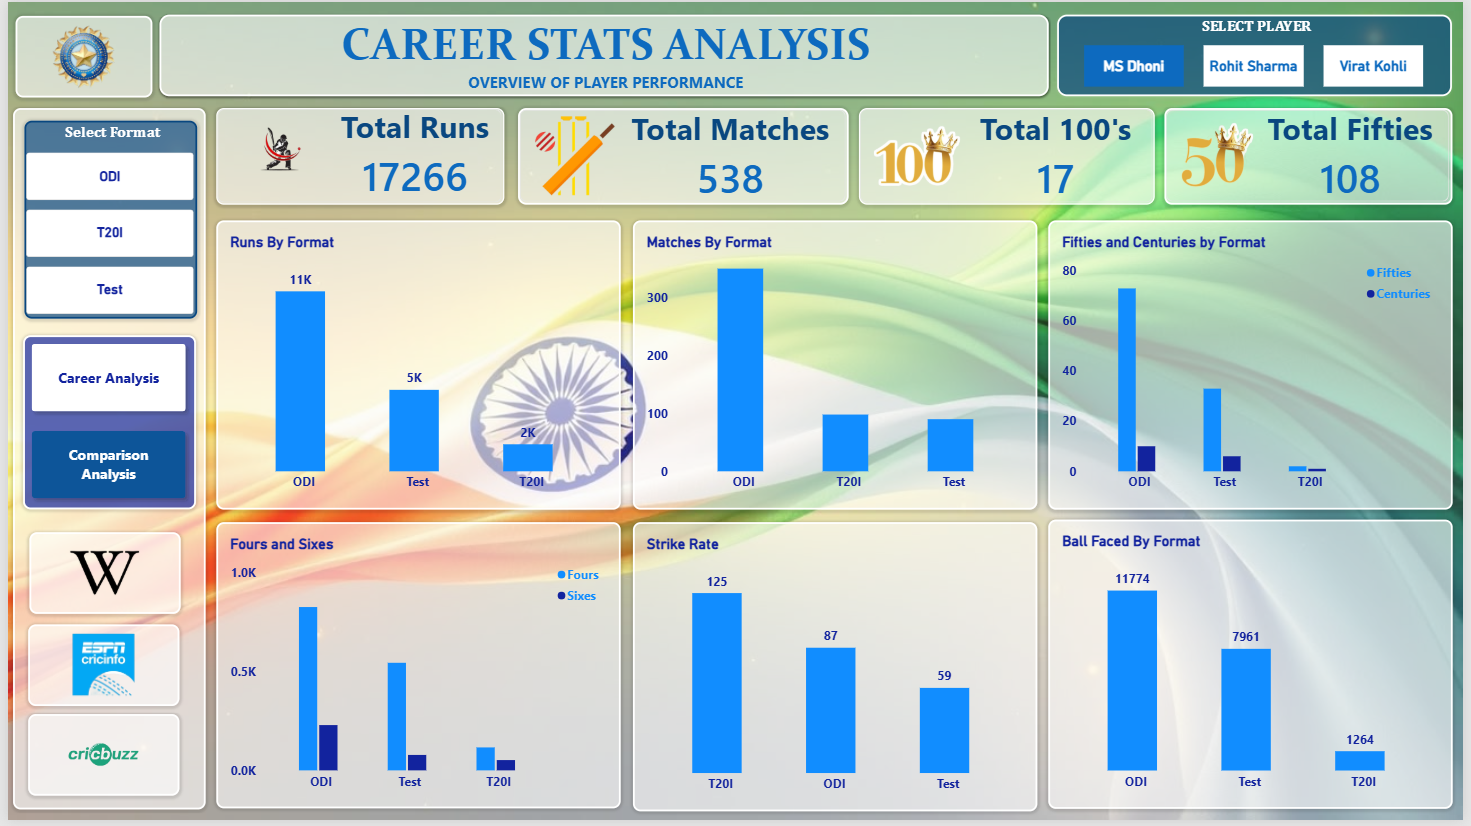

The dashboard page shown, as its layout file describes it:
{"tool":"powerbi","page":{"name":"Comparison Analysis","canvas":[1920,1080],"ordinal":1},"visuals":[{"type":"shape","box":[7.1,139.6,254.5,926],"z":0},{"type":"lineStackedColumnComboChart","title":"Matches By  Format","fields":{"Category":["Career_Summary.Format"],"Y":["Sum(Career_Summary.Matches)"]},"box":[825.3,288.1,533.7,381.7],"z":1000},{"type":"columnChart","title":"Runs By Format","fields":{"Category":["Career_Summary.Format"],"Y":["Sum(Career_Summary.Runs)"]},"box":[275.7,288.1,533.7,381.7],"z":2000},{"type":"columnChart","title":"Strike Rate","fields":{"Category":["Career_Summary.Format"],"Y":["Sum(Career_Summary.Strike_Rate)"]},"box":[825.3,687.5,533.7,381.7],"z":3000},{"type":"clusteredColumnChart","title":"Fours and Sixes","fields":{"Category":["Career_Summary.Format"],"Y":["Sum(Career_Summary.Fours)","Sum(Career_Summary.Sixes)"]},"box":[275.7,687.5,533.7,378.2],"z":4000},{"type":"lineClusteredColumnComboChart","title":"Fifties and Centuries by Format","fields":{"Category":["Career_Summary.Format"],"Y":["Sum(Career_Summary.Fifties)","Sum(Career_Summary.Centuries)"]},"box":[1373.2,288.1,533.7,381.7],"z":5000},{"type":"cardVisual","fields":{"Data":["Career_Summary.Total Runs"]},"box":[275.7,139.6,380,127.2],"z":6000},{"type":"cardVisual","fields":{"Data":["Career_Summary.Total Matches"]},"box":[673.3,139.6,436.5,127.2],"z":7000},{"type":"cardVisual","fields":{"Data":["Career_Summary.Total 100's"]},"box":[1124,139.6,390.6,127.2],"z":8000},{"type":"cardVisual","fields":{"Data":["Career_Summary.Total Fifties"]},"box":[1526.9,139.6,380,127.2],"z":9000},{"type":"textbox","title":"CAREER STATS ANALYSIS ","box":[199.7,15.9,1173.5,107.8],"z":10000},{"type":"advancedSlicerVisual","title":"SELECT PLAYER","fields":{"Values":["Career_Summary.Player_Name"]},"box":[1385.5,15.9,521.3,107.8],"z":11000},{"type":"advancedSlicerVisual","title":"Select Format","fields":{"Values":["Career_Summary.Format"]},"box":[21.2,157.3,228,261.6],"z":12000},{"type":"image","box":[10.6,17.7,180.3,107.8],"z":13000},{"type":"lineStackedColumnComboChart","title":"Ball Faced By Format","fields":{"Category":["Career_Summary.Format"],"Y":["Sum(Career_Summary.Balls)"]},"box":[1373.2,683.9,533.7,381.7],"z":14000},{"type":"image","box":[26.5,821.8,199.7,107.8],"z":15000},{"type":"image","box":[26.5,940.2,199.7,107.8],"z":16000},{"type":"image","box":[28.3,699.8,199.7,107.8],"z":17000},{"type":"pageNavigator","box":[19.4,440.1,228,229.7],"z":18000}]}

Visuals, with their boxes in screenshot pixels (x1, y1, x2, y2), scaled from the page's 1920x1080 canvas onto the 1471x826 screenshot:
shape: l=5, t=107, r=200, b=815
"Matches By  Format" lineStackedColumnComboChart: l=632, t=220, r=1041, b=512
"Runs By Format" columnChart: l=211, t=220, r=620, b=512
"Strike Rate" columnChart: l=632, t=526, r=1041, b=818
"Fours and Sixes" clusteredColumnChart: l=211, t=526, r=620, b=815
"Fifties and Centuries by Format" lineClusteredColumnComboChart: l=1052, t=220, r=1461, b=512
cardVisual - Career_Summary.Total Runs: l=211, t=107, r=502, b=204
cardVisual - Career_Summary.Total Matches: l=516, t=107, r=850, b=204
cardVisual - Career_Summary.Total 100's: l=861, t=107, r=1160, b=204
cardVisual - Career_Summary.Total Fifties: l=1170, t=107, r=1461, b=204
"CAREER STATS ANALYSIS " textbox: l=153, t=12, r=1052, b=95
"SELECT PLAYER" advancedSlicerVisual: l=1061, t=12, r=1461, b=95
"Select Format" advancedSlicerVisual: l=16, t=120, r=191, b=320
image: l=8, t=14, r=146, b=96
"Ball Faced By Format" lineStackedColumnComboChart: l=1052, t=523, r=1461, b=815
image: l=20, t=629, r=173, b=711
image: l=20, t=719, r=173, b=802
image: l=22, t=535, r=175, b=618
pageNavigator: l=15, t=337, r=190, b=512
